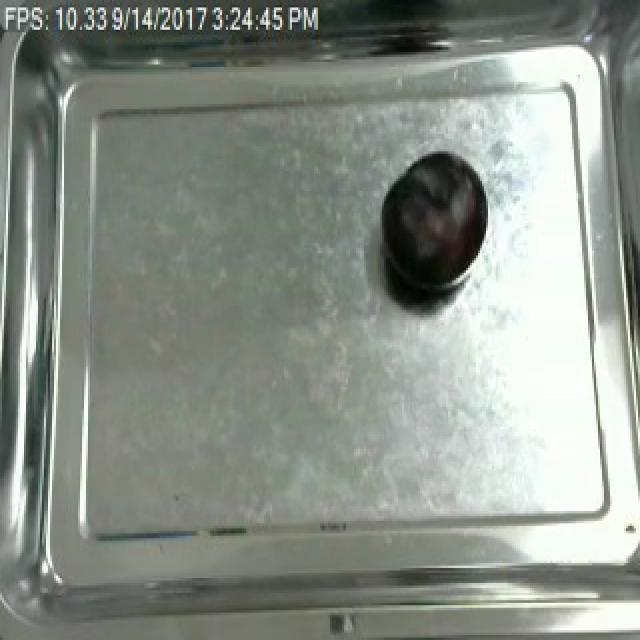Fruit: (376, 144, 490, 305)
